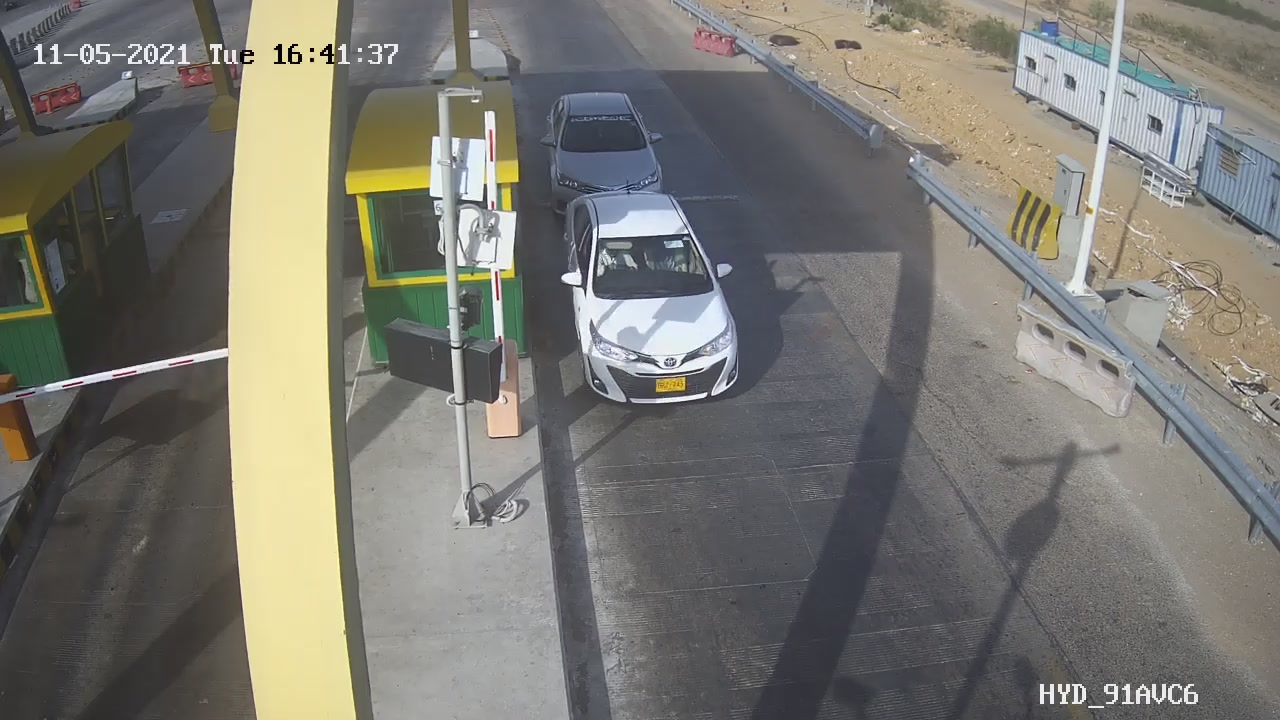F1: (540, 175, 761, 418), (527, 78, 692, 229)
